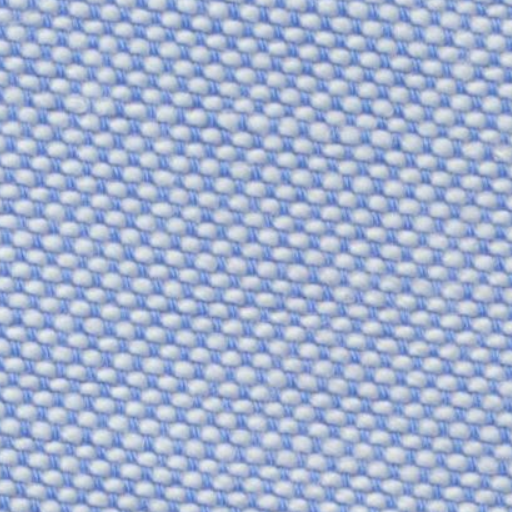TuoSha: (12, 62, 492, 186)
